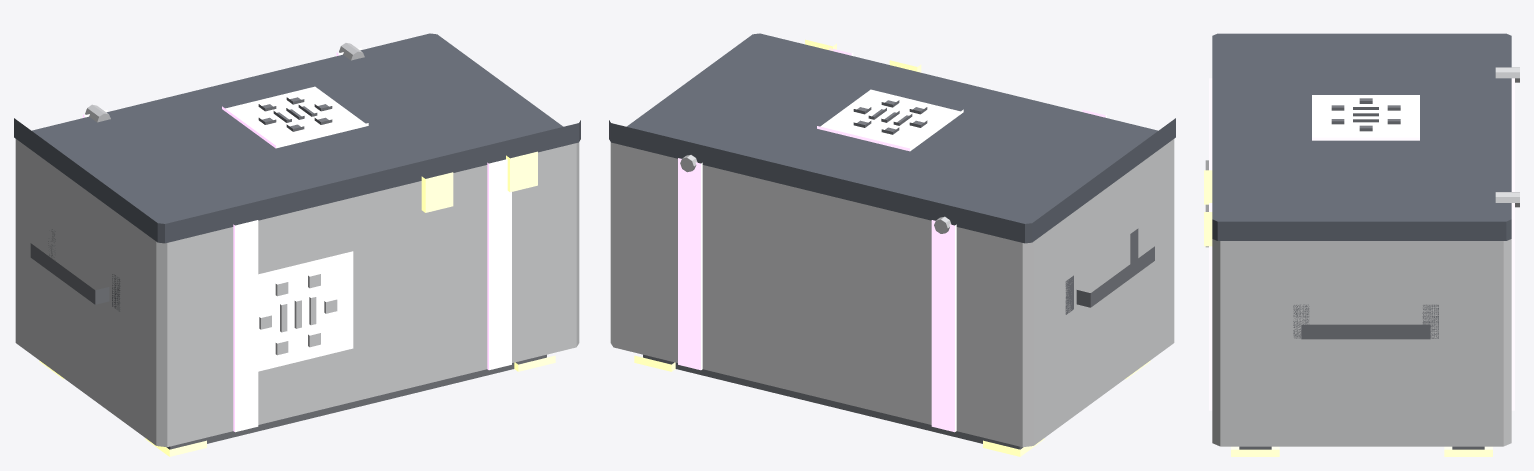
File: iter_04_104.glb
3 renders of one model, left to right at view 1: azimuth 30°, elevation 25°; view 2: azimuth 150°, elevation 25°; view 3: azimuth 270°, elevation 25°, orthographic.
Visible parts, largest first — view 1: Body_104, Lid_104, Straps_104, Glyph_Plate_104, Lid_Glyph_104, Skids_104, Latches_104, Glyph_Marks_104, Handles_104, Lid_Glyph_Marks_104, Floor_Clamps_104, Hinges_104; view 2: Body_104, Lid_104, Straps_104, Lid_Glyph_104, Skids_104, Handles_104, Lid_Glyph_Marks_104, Floor_Clamps_104; view 3: Body_104, Lid_104, Lid_Glyph_104, Handles_104, Straps_104, Floor_Clamps_104, Lid_Glyph_Marks_104, Latches_104, Hinges_104.
Part boxes in pixels (x1,y1,x2,y2): Body_104: (15, 139, 579, 447); Lid_104: (14, 33, 580, 243); Straps_104: (83, 47, 511, 432); Glyph_Plate_104: (241, 251, 353, 375); Lid_Glyph_104: (222, 86, 368, 148); Skids_104: (166, 354, 546, 449); Latches_104: (421, 151, 537, 212); Glyph_Marks_104: (259, 274, 337, 355); Handles_104: (30, 229, 120, 311); Lid_Glyph_Marks_104: (258, 97, 332, 131); Floor_Clamps_104: (39, 355, 555, 456); Hinges_104: (85, 43, 364, 122); Body_104: (610, 139, 1174, 447); Lid_104: (609, 33, 1175, 243); Straps_104: (678, 47, 1106, 432); Lid_Glyph_104: (817, 89, 963, 151); Skids_104: (643, 354, 1023, 449); Handles_104: (1065, 228, 1154, 314); Lid_Glyph_Marks_104: (853, 100, 927, 134); Floor_Clamps_104: (634, 355, 1150, 456); Body_104: (1212, 239, 1511, 446); Lid_104: (1212, 33, 1511, 240); Lid_Glyph_104: (1312, 95, 1419, 140); Handles_104: (1293, 304, 1438, 339); Straps_104: (1209, 78, 1514, 410); Floor_Clamps_104: (1231, 446, 1492, 456); Lid_Glyph_Marks_104: (1331, 98, 1400, 131); Latches_104: (1204, 170, 1212, 246); Hinges_104: (1495, 67, 1519, 207).
Size of the model in its own units: 1 by 0.512 by 0.585.
